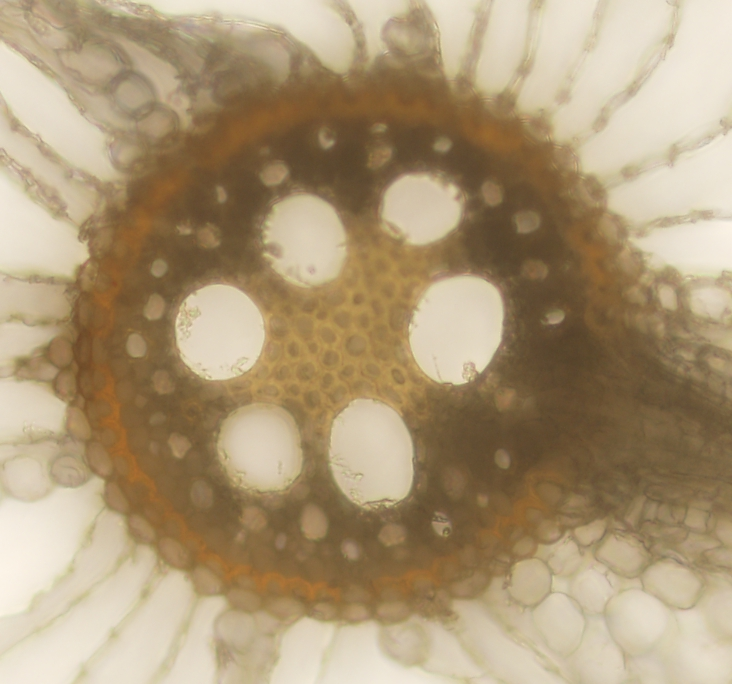lm: (408, 274, 504, 385), (327, 398, 415, 512), (175, 284, 266, 380), (216, 401, 304, 495), (260, 193, 347, 286), (378, 172, 462, 246)
